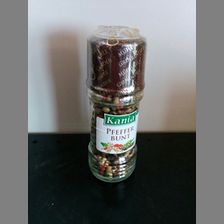spices: (85, 24, 147, 182)
